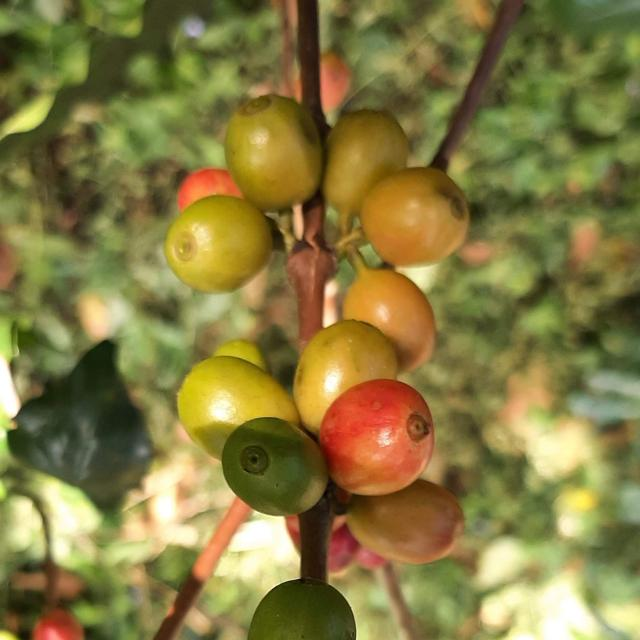green: (222, 418, 329, 517), (247, 579, 356, 640)
red: (177, 167, 243, 211)
yellow: (320, 379, 435, 496), (177, 356, 300, 460), (294, 320, 398, 435), (225, 94, 323, 211), (361, 167, 470, 266), (164, 194, 273, 293), (347, 480, 466, 565), (344, 267, 437, 372), (323, 108, 409, 215), (213, 339, 267, 371)
